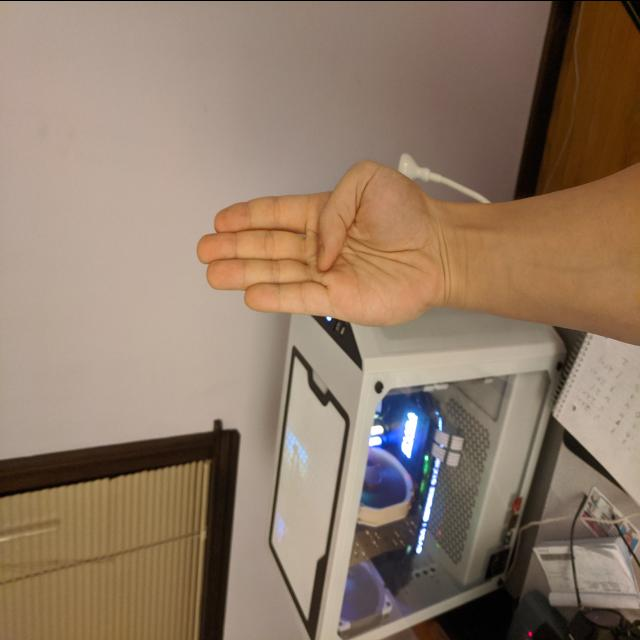B: (192, 154, 456, 334)
